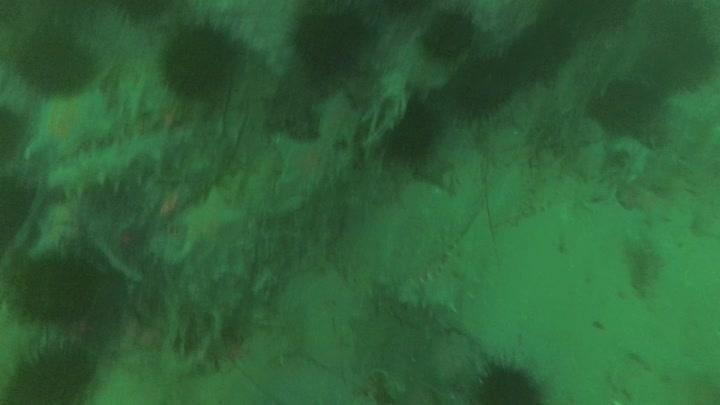echinus: (11, 245, 107, 328), (634, 7, 717, 93), (157, 20, 243, 102), (287, 4, 376, 78), (3, 336, 101, 403), (12, 24, 97, 97), (587, 74, 667, 138), (450, 51, 521, 121), (379, 95, 444, 166), (505, 19, 574, 85), (467, 355, 549, 404), (418, 4, 479, 61)
holothurian: (43, 124, 207, 201), (391, 215, 496, 318)
starfish: (21, 85, 117, 163), (268, 127, 344, 199), (173, 186, 247, 259), (26, 194, 87, 264), (310, 88, 366, 149)
